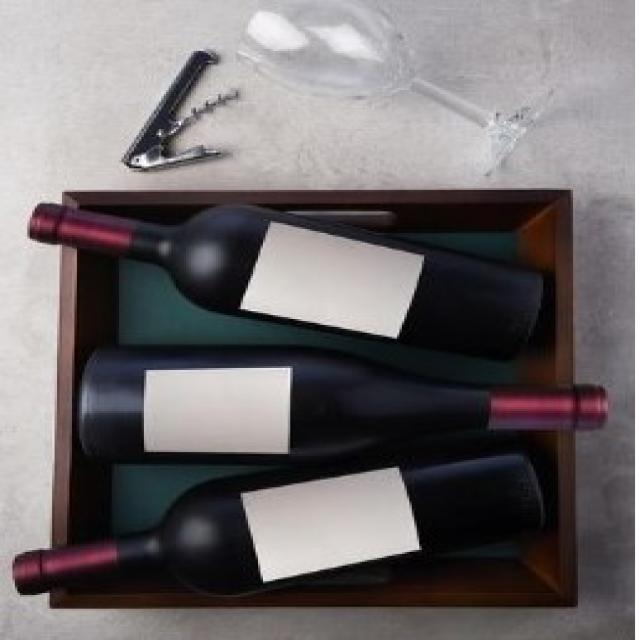electronic: (9, 198, 610, 597), (236, 2, 549, 186)
